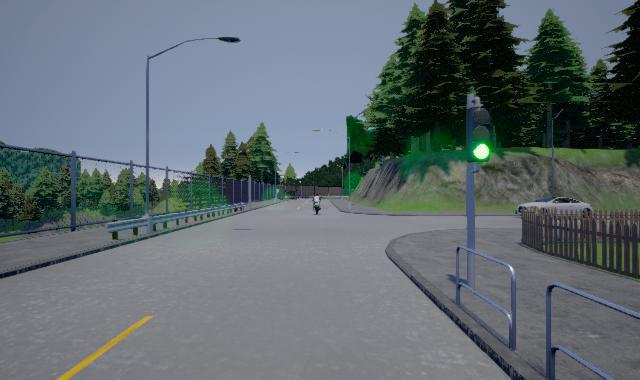3: (466, 96, 492, 173)
9: (514, 196, 593, 217)
motobike: (312, 191, 322, 216)
